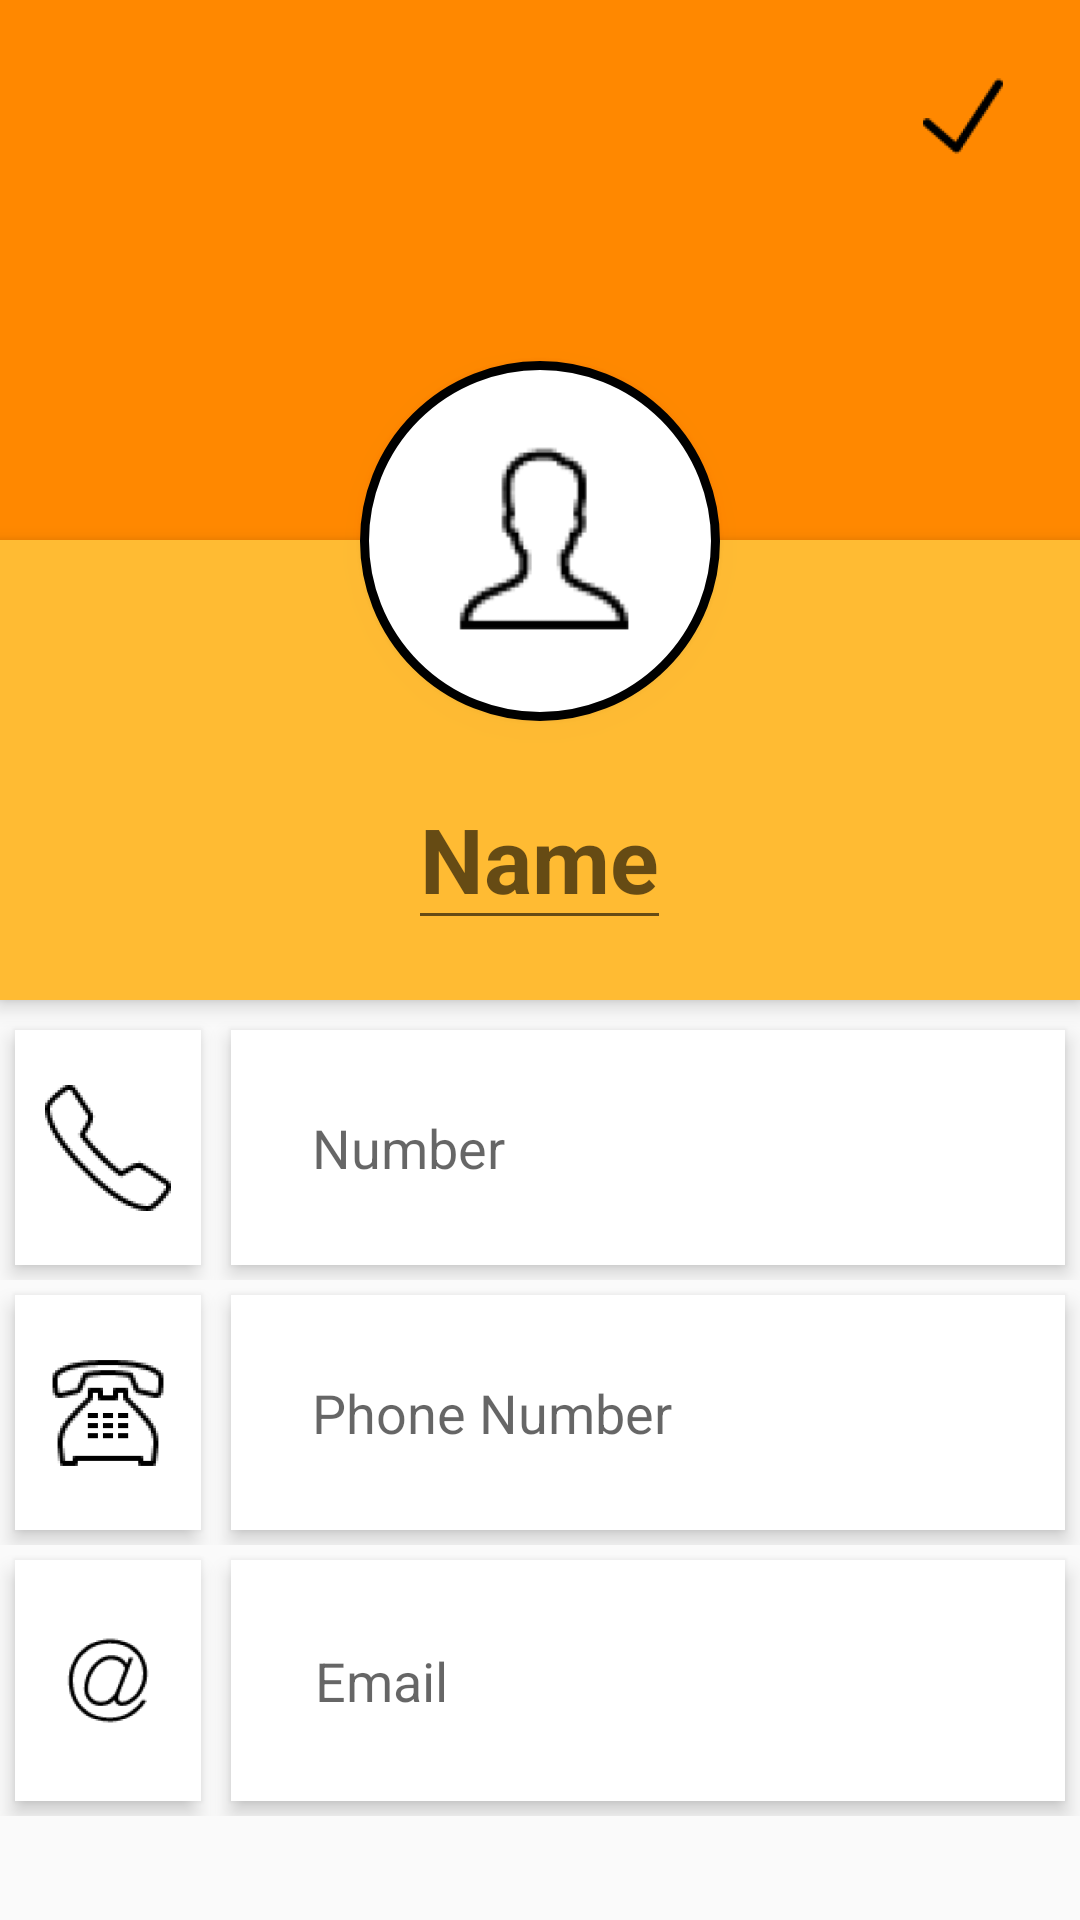

Where to tap for icons on this 1080x1920 app screen, as (x=x, y=y):
checkmark: (x=963, y=116)
contact: (x=540, y=541)
